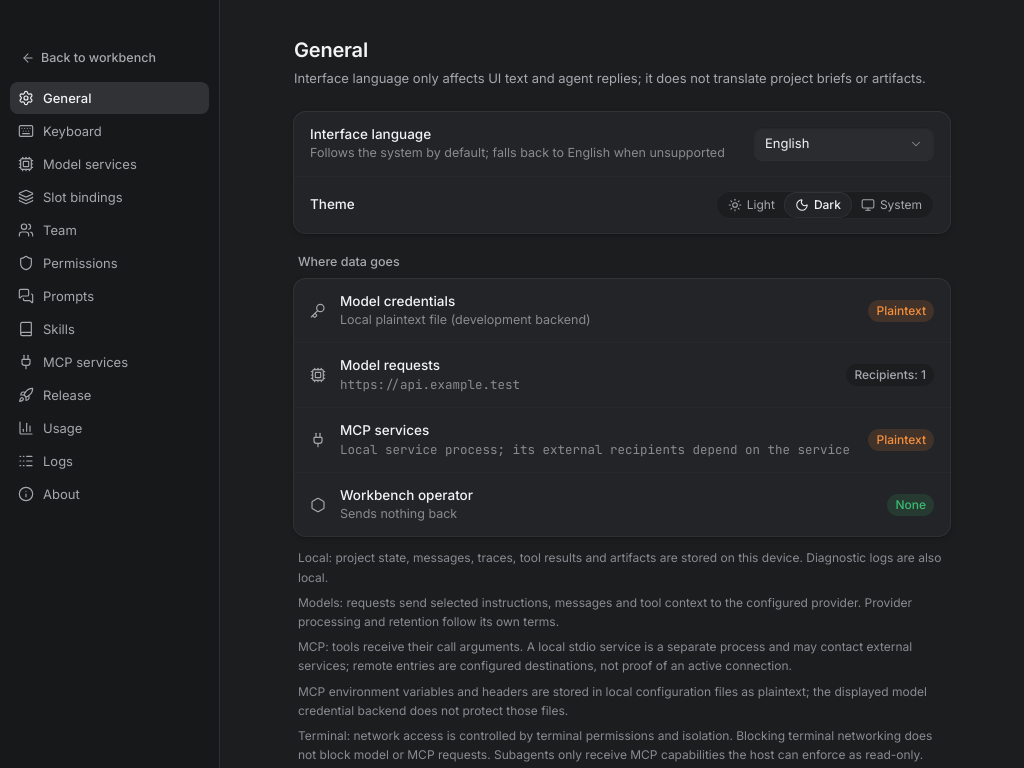
registers the skills retry action and honors its displayed custom shortcut
Click the button "Skills": {"x": 110, "y": 329} [10,313,209,345]
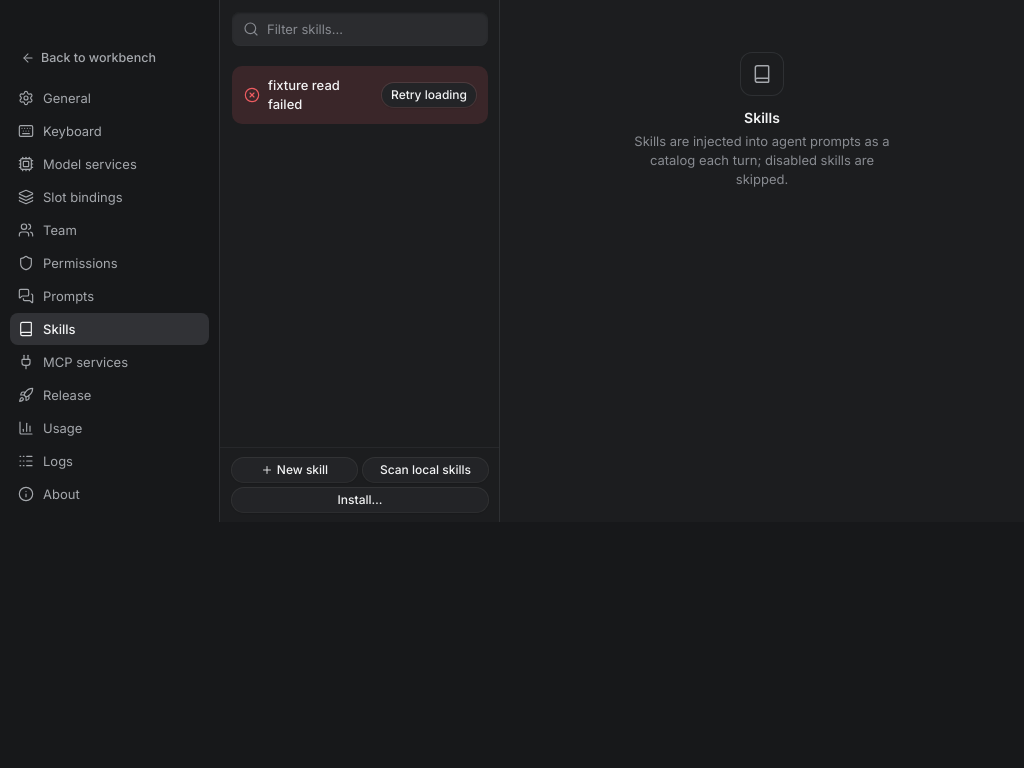
Press r in the button "Retry loading", box [382,83,476,107]
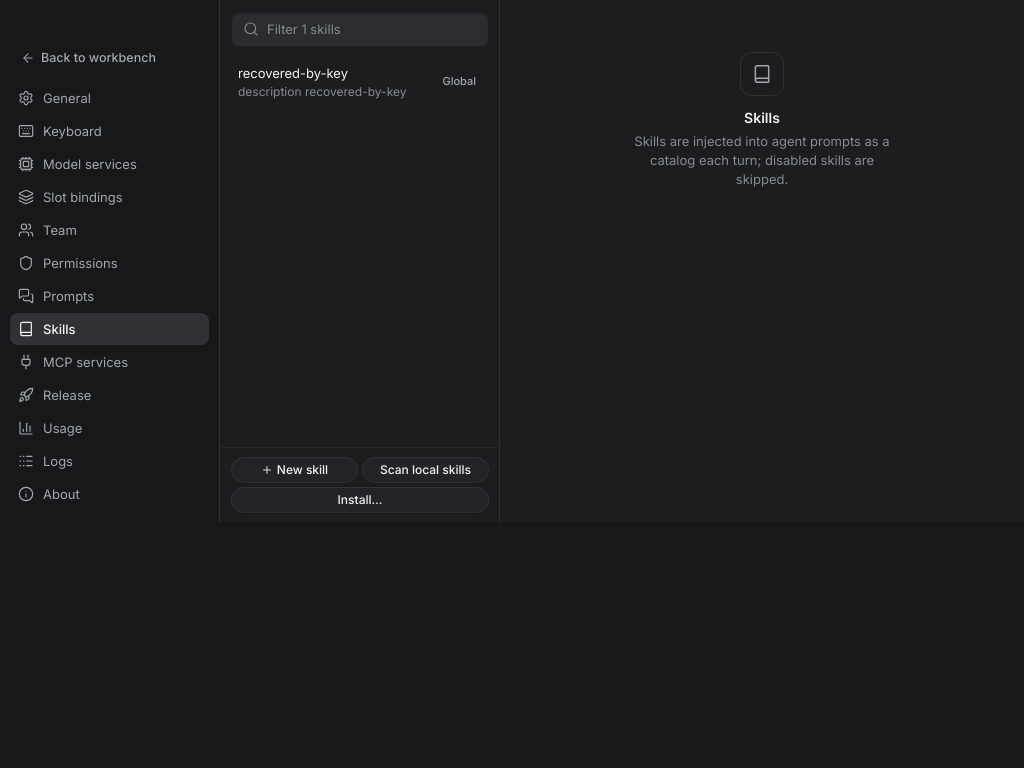
Expected: the text "recovered-by-key" is shown, [238,65,348,81]
